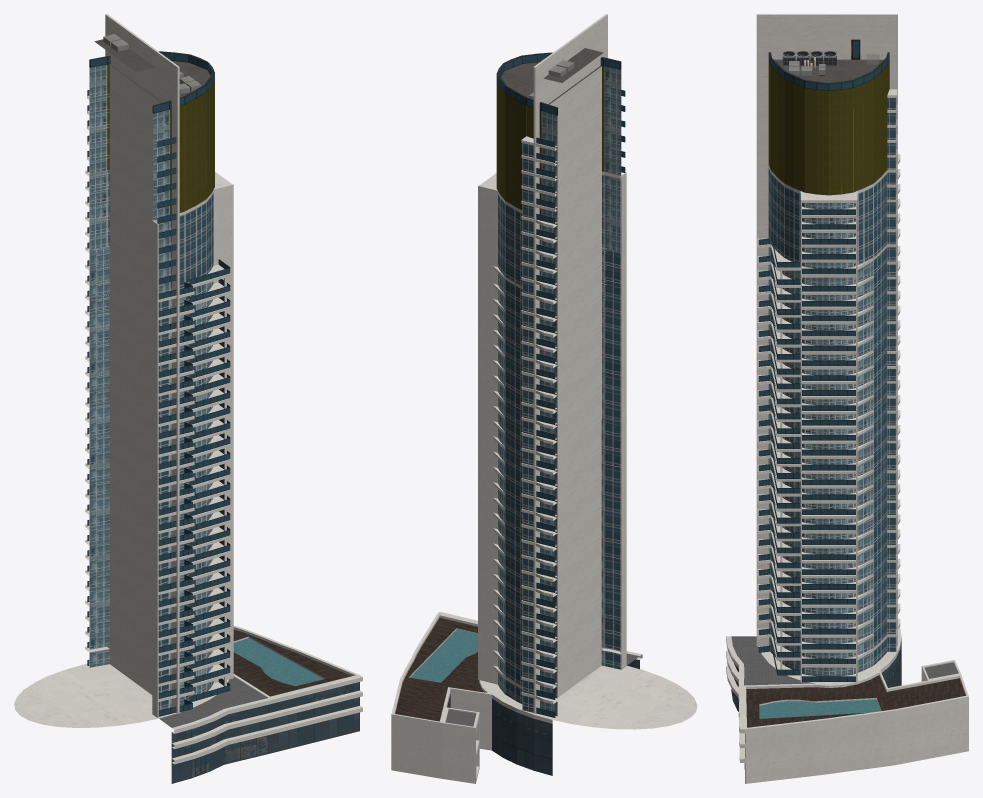
Rendered from Building_16.fbx.
The picture shows the model from 3 angles, left to right: view 1: azimuth 30°, elevation 25°; view 2: azimuth 150°, elevation 25°; view 3: azimuth 270°, elevation 25°; orthographic projection. The views are drawn at different scales.
Visible parts, largest first — view 1: b_16; view 2: b_16; view 3: b_16.
Part boxes in pixels (left/top/right/bottom): b_16: left=14, top=14, right=362, bottom=783; b_16: left=391, top=14, right=697, bottom=783; b_16: left=726, top=14, right=968, bottom=783.
Bounding box in the file's own units: 8.8 × 19.91 × 6.39.
1 material, 1 textured.
